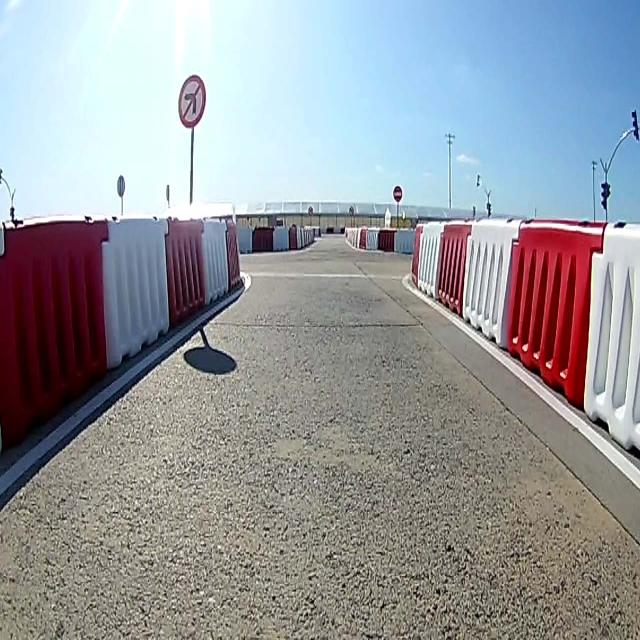girisyok: (392, 184, 402, 203)
soladonulmez: (177, 75, 207, 129)
